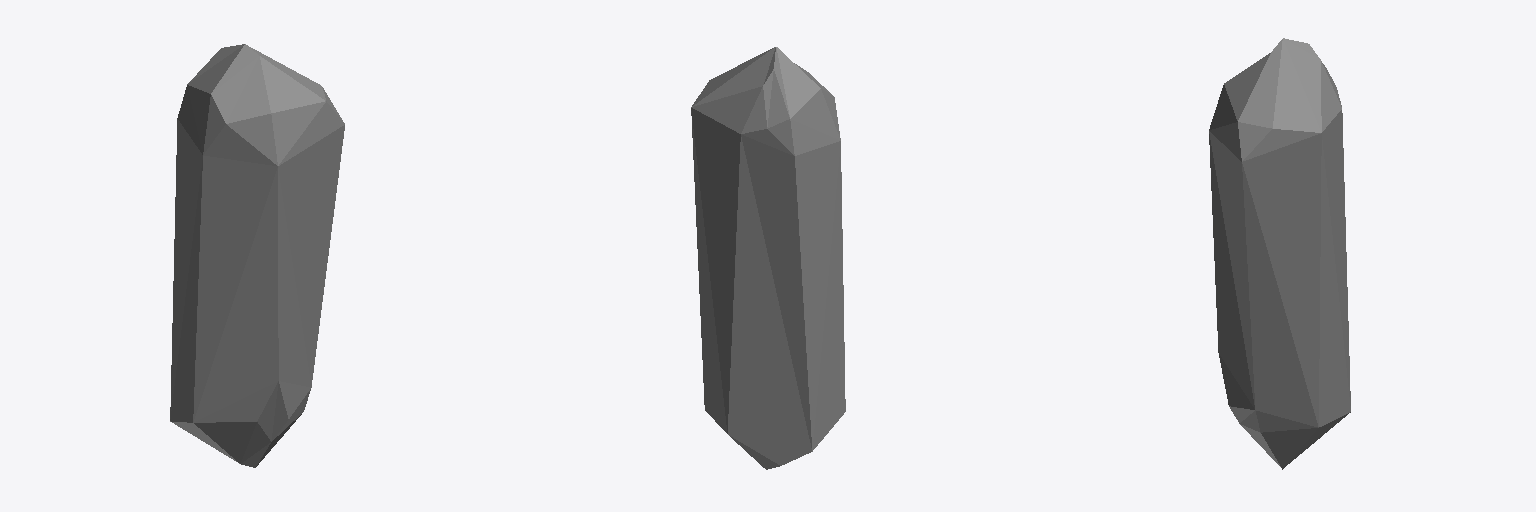
3 views of the same model, side by side, from view 1: azimuth 30°, elevation 25°; view 2: azimuth 150°, elevation 25°; view 3: azimuth 270°, elevation 25° (orthographic).
Parts seen in each view (by area): view 1: crystal_small_001; view 2: crystal_small_001; view 3: crystal_small_001.
Part boxes in pixels (left/top/right/bottom): crystal_small_001: left=170, top=44, right=344, bottom=467; crystal_small_001: left=691, top=47, right=845, bottom=469; crystal_small_001: left=1209, top=38, right=1350, bottom=469.
Bounding box in the file's own units: 1.34 × 3.88 × 1.17.